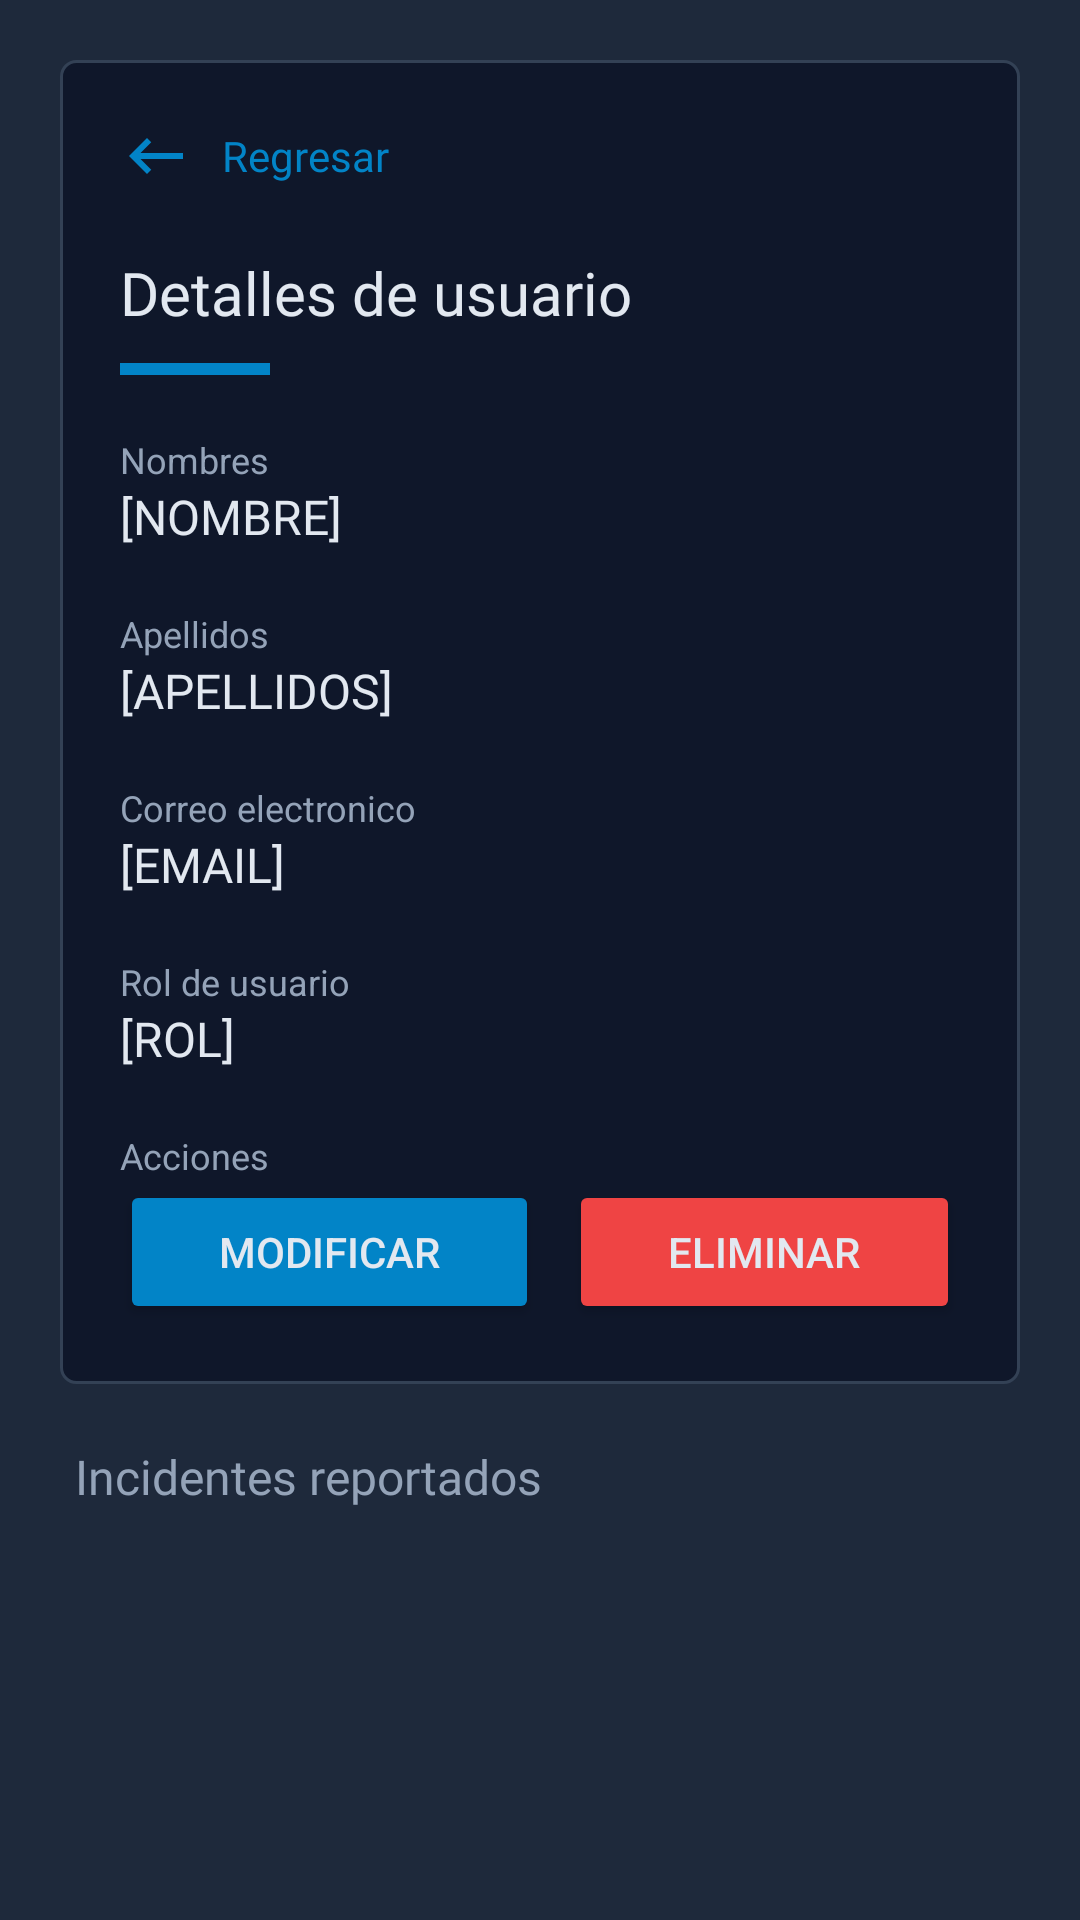

Where icons sit on this 1080x1920 app screen, as (x1, y1, x2, y2):
keyboard backspace: (129, 138, 183, 174)
